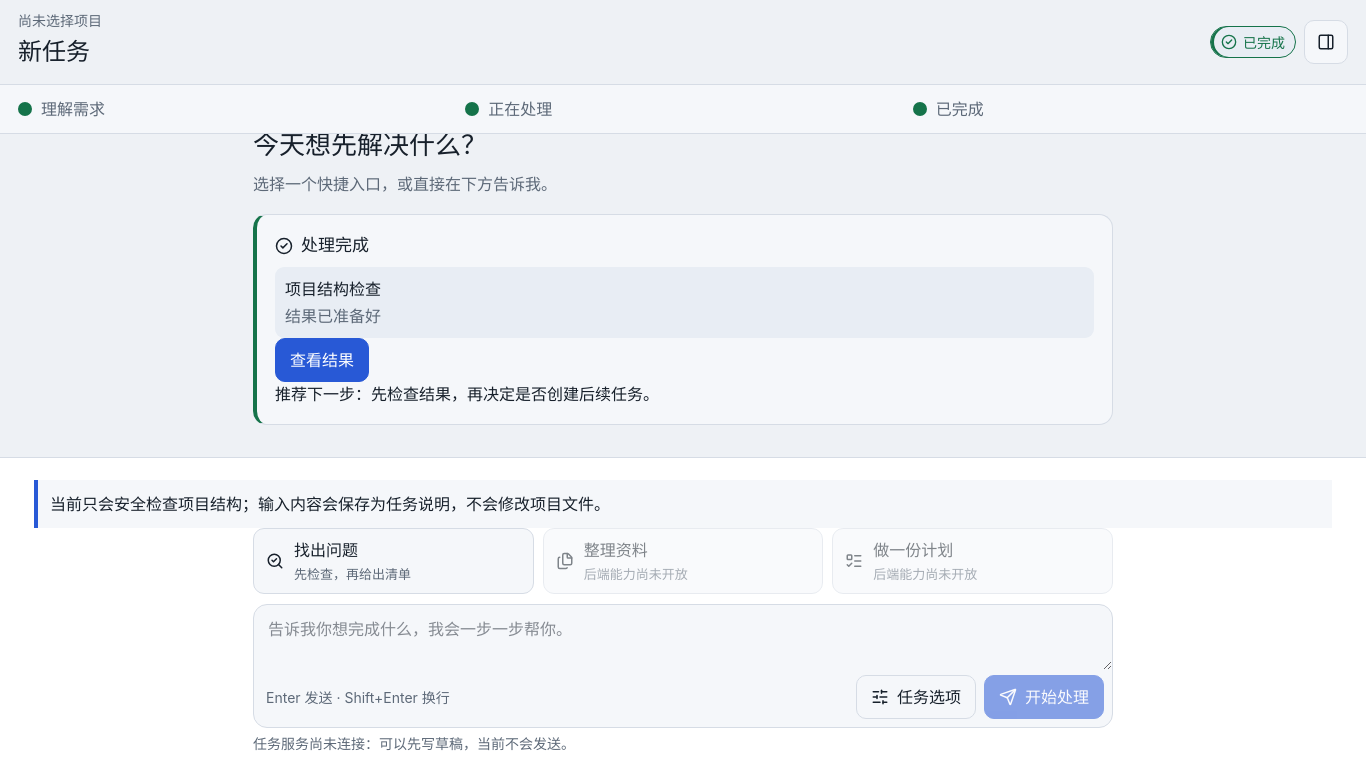
TasksPage › opens the first ready result and renders JSON as readable content
(page scrolled)
Click the button "查看结果": {"x": 322, "y": 360} [275,338,369,382]
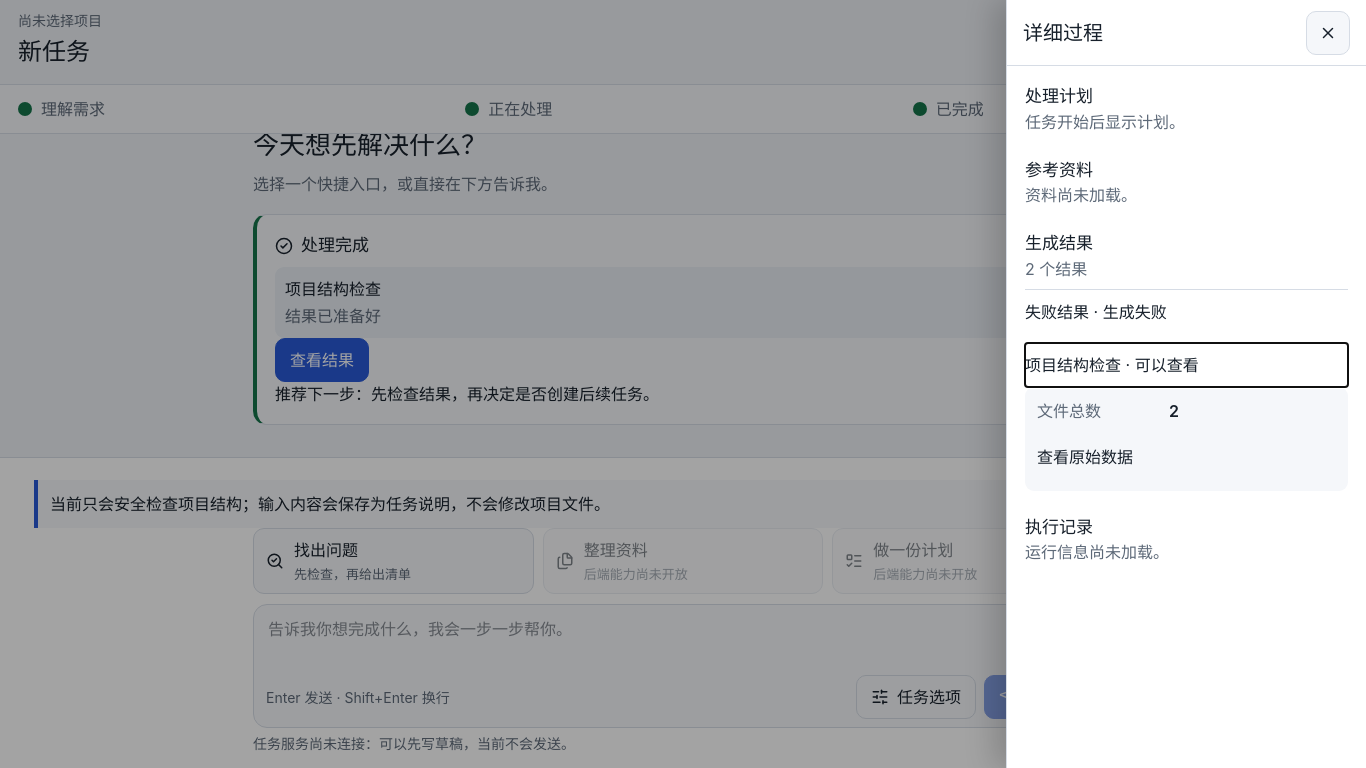
Result: the text "项目结构检查 · 可以查看" shows "文件总数" at [1037,400,1101,420]
Result: the text "项目结构检查 · 可以查看" shows "2" at [1169,400,1179,420]
Result: the text "项目结构检查 · 可以查看" shows "查看原始数据" at [1037,446,1133,466]
